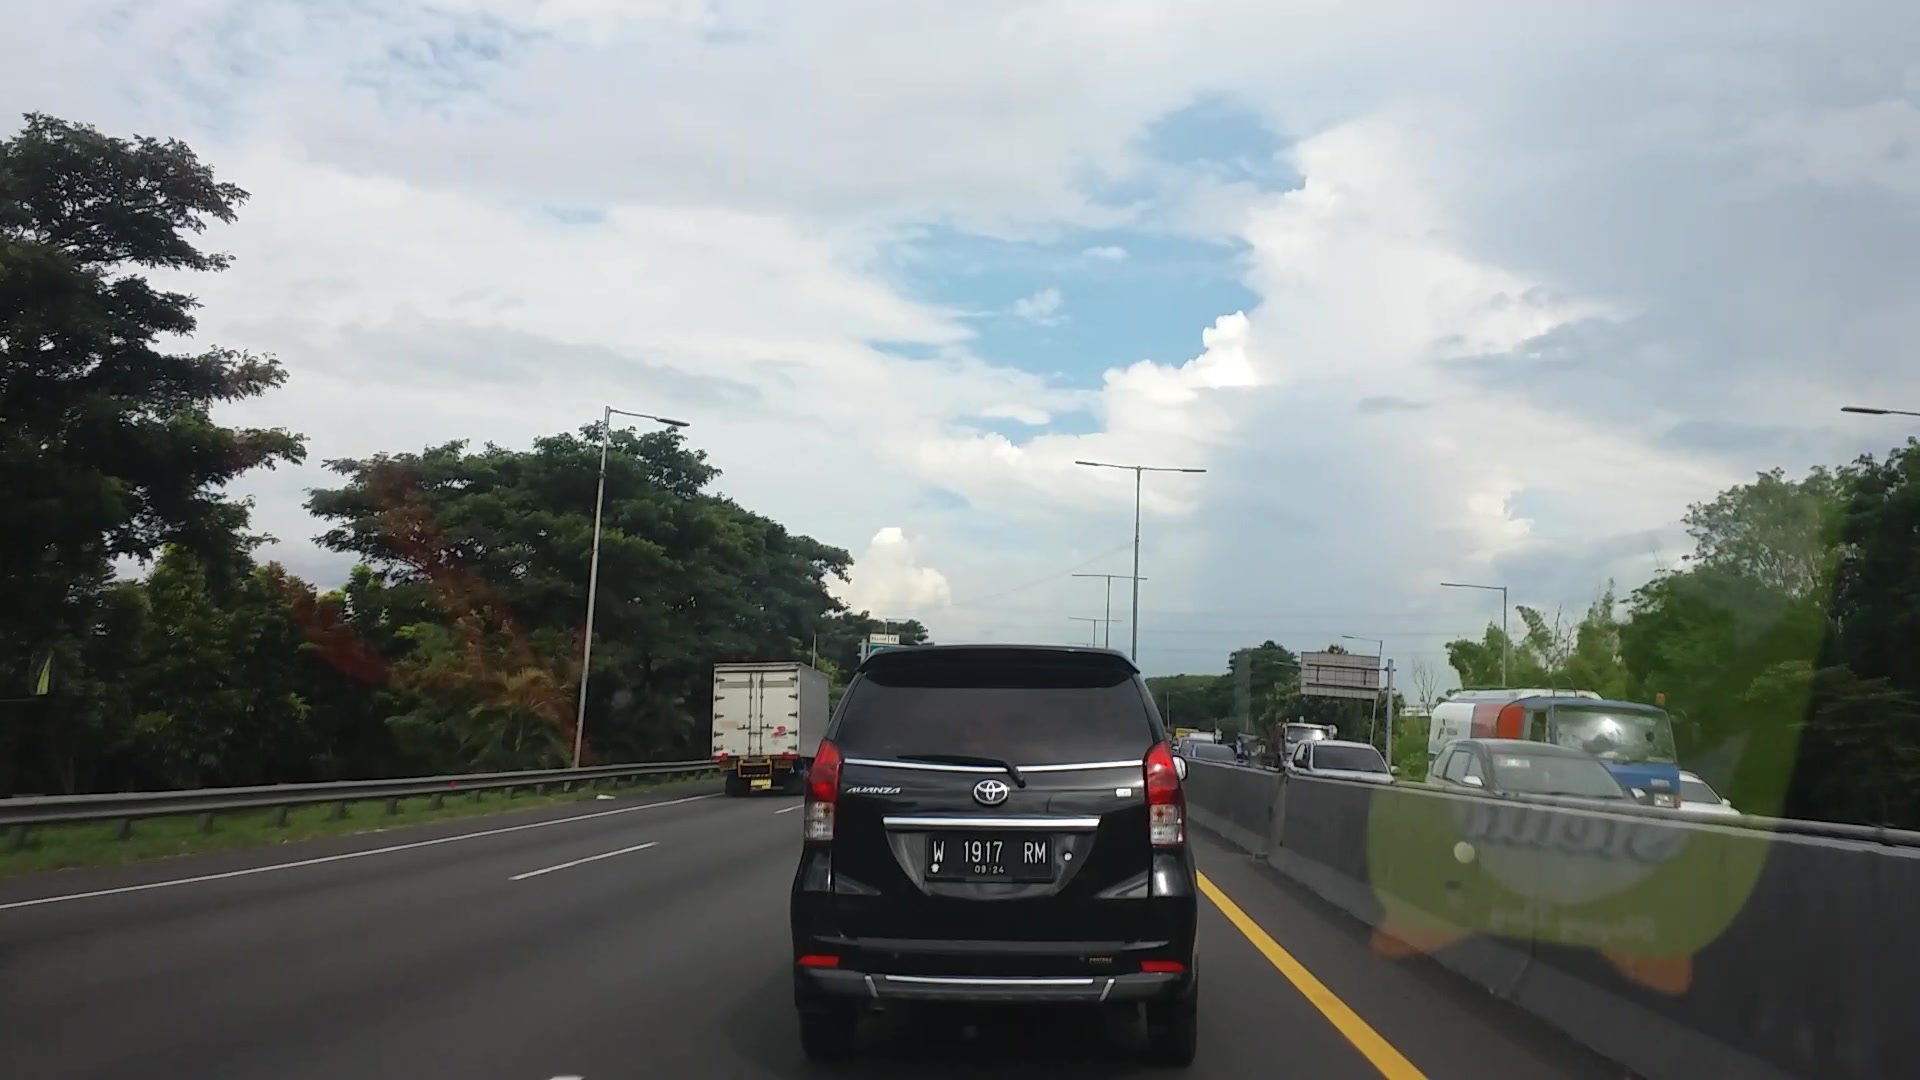plate_positive: (926, 829, 1054, 884)
